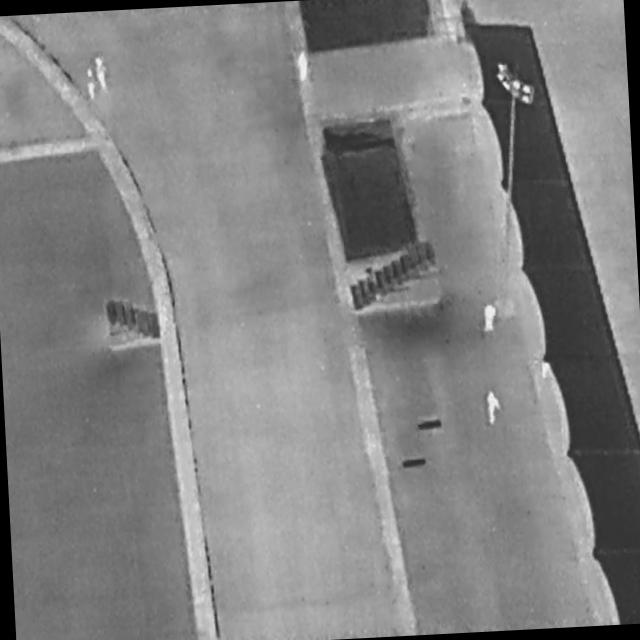person: (93, 53, 113, 94), (485, 387, 504, 427), (83, 65, 102, 102), (482, 302, 499, 335), (298, 49, 311, 84)
